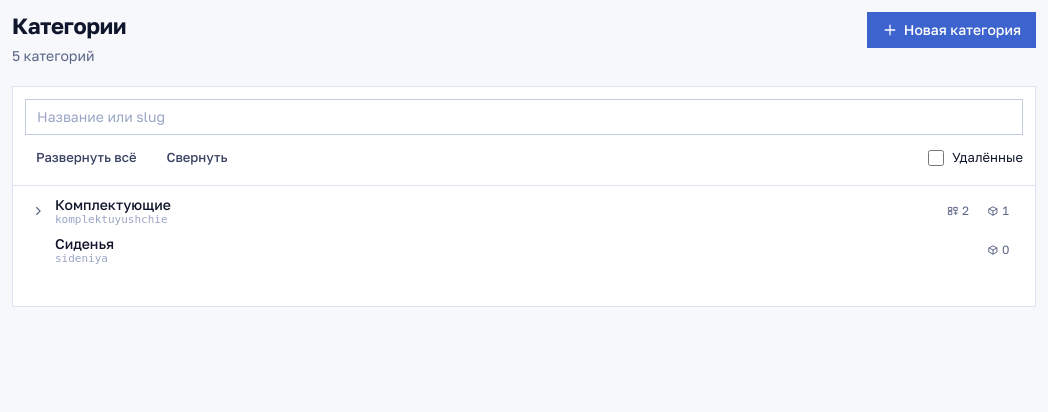
it: дерево категорий › корни, раскрытие ветки, slug, признаки и счётчики
Expected: the text "Комплектующие" is shown, [55,196,171,213]
Expected: the text "Сиденья" is shown, [55,235,114,252]
Click the button named "Развернуть «Комплектующие»": (38, 211) [27,200,49,222]
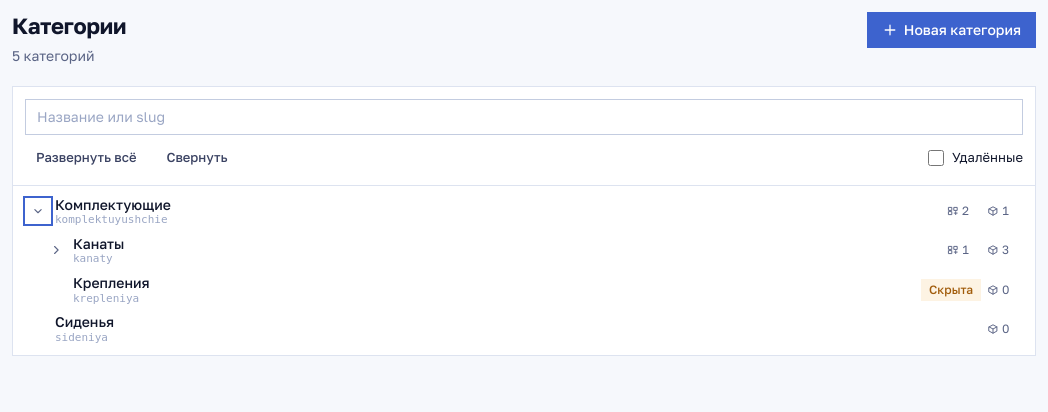
Now the text "Канаты" is shown, box [73,235,124,252]
Now the text "Скрыта" is shown, box [921,279,981,301]
Now the element titled "Товаров" reads "3", box [1002,242,1009,258]
Click the button named "Свернуть «Комплектующие»": (38, 211) [27,200,49,222]
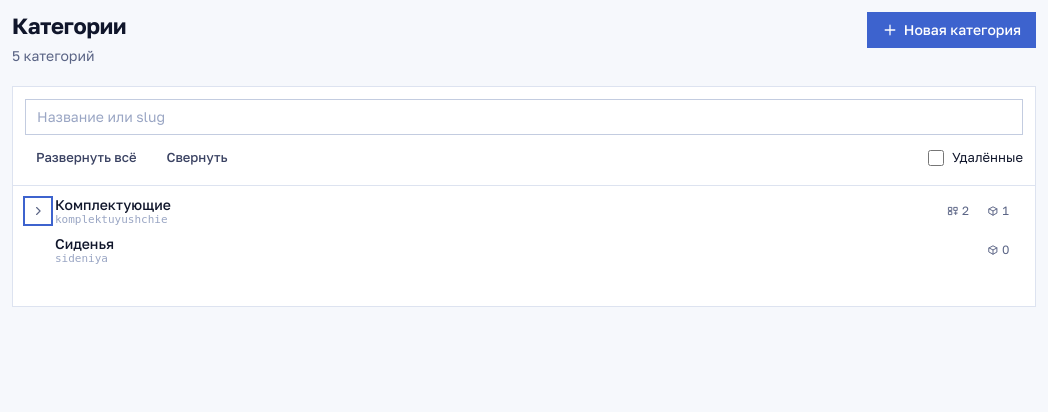
Now the text "Канаты" is gone
Click the button "Развернуть всё": (86, 158) [25,143,147,173]
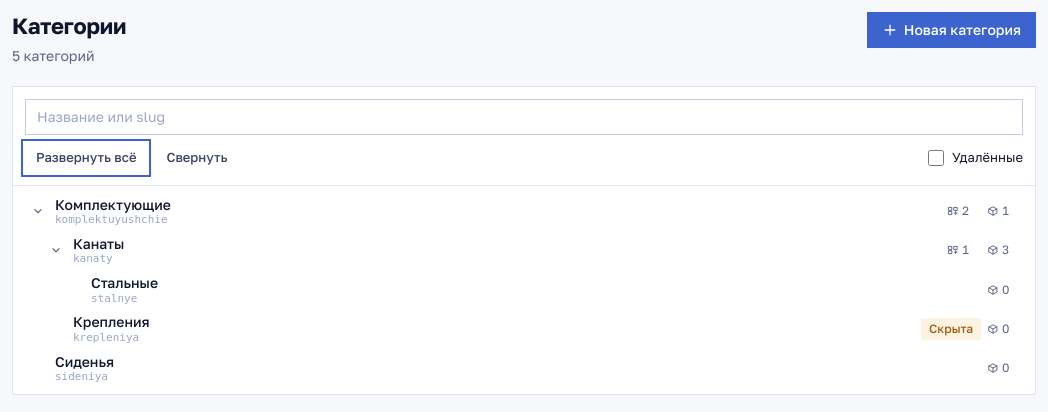
Now the text "Стальные" is shown, box [91,274,158,291]
Click the button "Свернуть": (197, 158) [155,143,239,173]
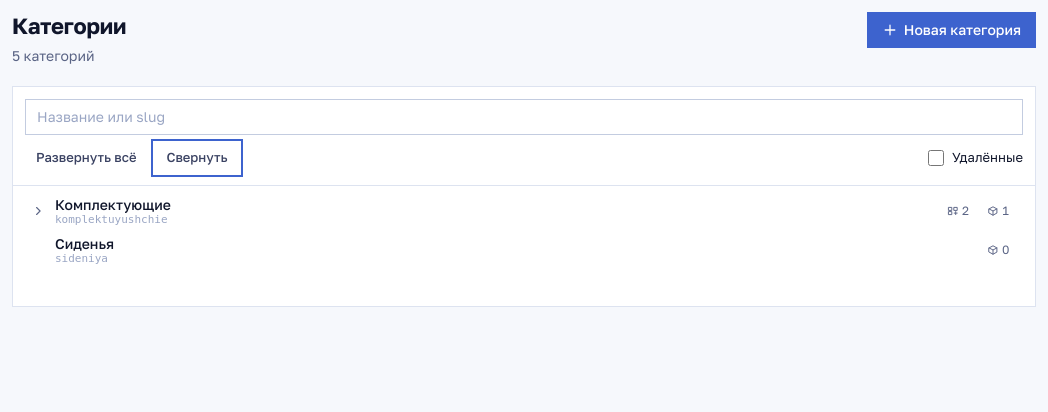
Now the text "Стальные" is gone
